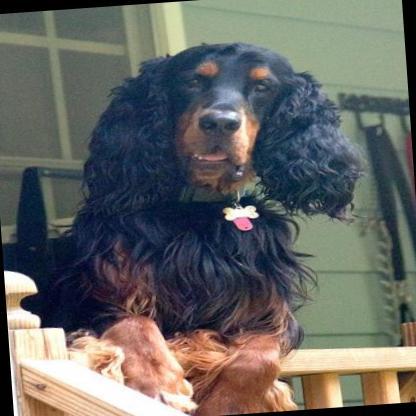Gordon_setter: (0, 28, 390, 416)
